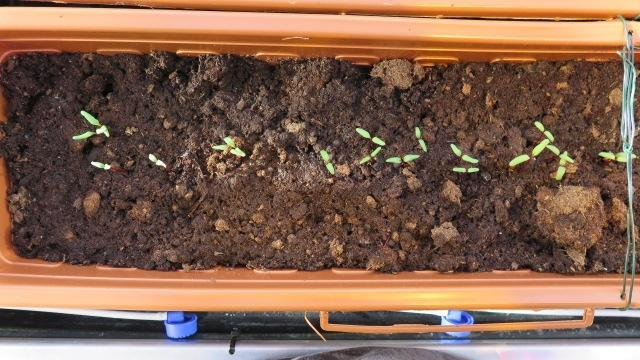crop: (446, 140, 482, 162), (351, 124, 387, 145), (315, 145, 338, 176), (409, 122, 432, 153), (354, 145, 384, 165), (381, 152, 423, 164), (143, 150, 167, 169), (444, 164, 481, 174), (86, 159, 113, 170)
